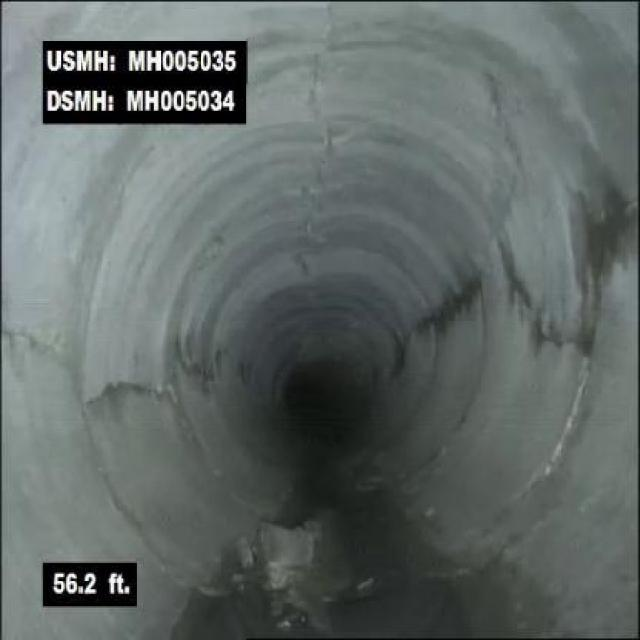Buckling: (306, 8, 349, 154)
Crack: (504, 269, 596, 368), (486, 69, 531, 186), (72, 376, 174, 412), (6, 323, 72, 363)
Debris: (218, 516, 320, 602)
